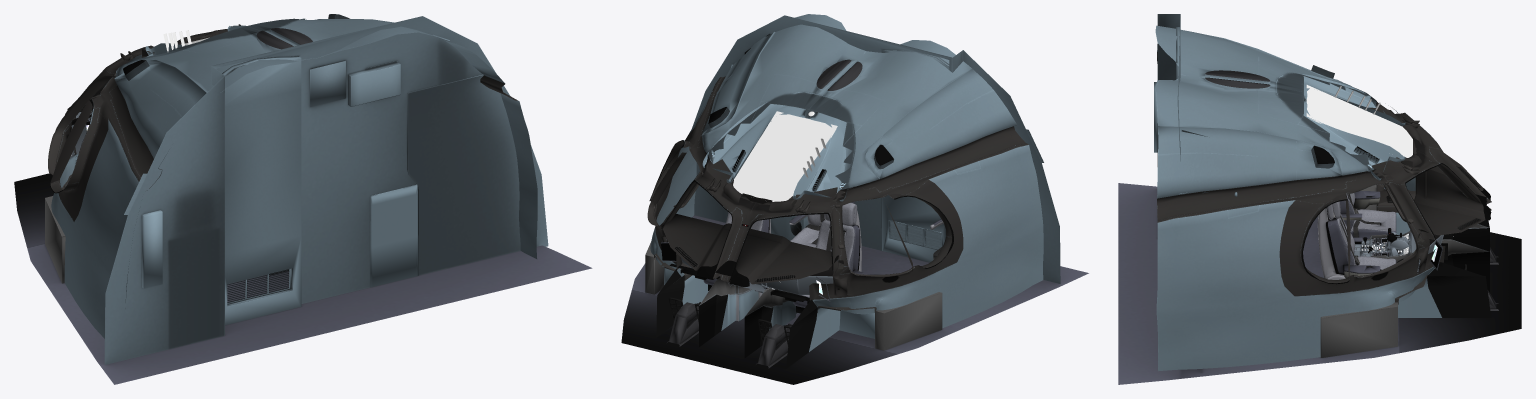
The picture shows the model from 3 angles, left to right: view 1: azimuth 30°, elevation 25°; view 2: azimuth 150°, elevation 25°; view 3: azimuth 270°, elevation 25°; orthographic projection. The views are drawn at different scales.
Visible parts, largest first — view 1: static-material-3, static-material-1, static-material-0, static-material-41; view 2: static-material-1, static-material-3, static-material-4, static-material-6, static-material-0, static-material-41, static-material-50, static-material-2; view 3: static-material-1, static-material-3, static-material-2, static-material-4, static-material-6, static-material-41, static-material-50, static-material-5, static-material-53, static-material-0.
Part boxes in pixels (x1=…): static-material-3: x1=14, y1=16, x2=592, y2=384; static-material-1: x1=48, y1=14, x2=537, y2=338; static-material-0: x1=142, y1=56, x2=483, y2=325; static-material-41: x1=116, y1=18, x2=304, y2=72; static-material-1: x1=647, y1=14, x2=1043, y2=368; static-material-3: x1=621, y1=15, x2=1088, y2=384; static-material-4: x1=663, y1=213, x2=839, y2=294; static-material-6: x1=733, y1=111, x2=837, y2=225; static-material-0: x1=694, y1=33, x2=949, y2=262; static-material-41: x1=702, y1=92, x2=855, y2=201; static-material-50: x1=699, y1=277, x2=797, y2=357; static-material-2: x1=703, y1=188, x2=943, y2=313; static-material-1: x1=1155, y1=25, x2=1498, y2=371; static-material-3: x1=1118, y1=14, x2=1521, y2=384; static-material-2: x1=1317, y1=193, x2=1396, y2=279; static-material-4: x1=1414, y1=153, x2=1489, y2=273; static-material-6: x1=1306, y1=85, x2=1412, y2=253; static-material-41: x1=1276, y1=73, x2=1405, y2=180; static-material-50: x1=1362, y1=224, x2=1489, y2=292; static-material-5: x1=1341, y1=191, x2=1403, y2=277; static-material-53: x1=1354, y1=232, x2=1415, y2=256; static-material-0: x1=1154, y1=27, x2=1237, y2=196.
Bounding box in the file's own units: 4.58 × 2.45 × 3.86.
Materials: 57 (51 with a texture image).
